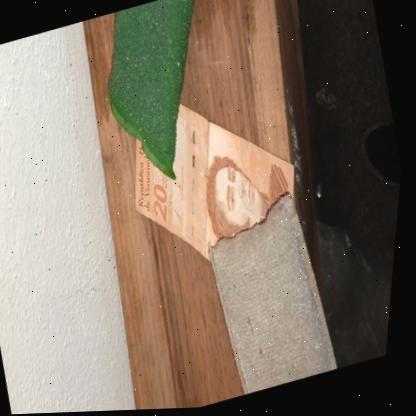twenty-front-vef: (110, 74, 323, 283)
